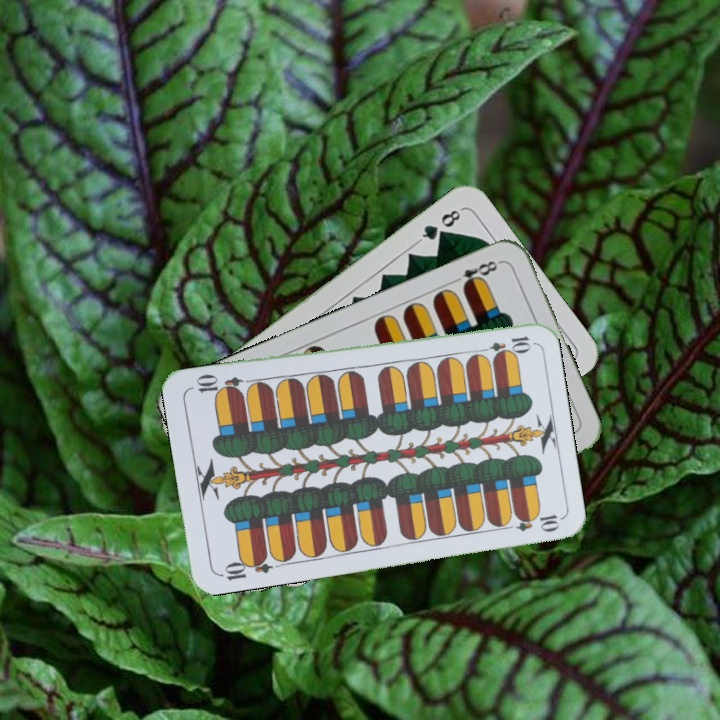E10: (215, 551, 274, 583), (474, 332, 533, 357)
E8: (447, 256, 504, 292)
G8: (414, 205, 465, 245)
